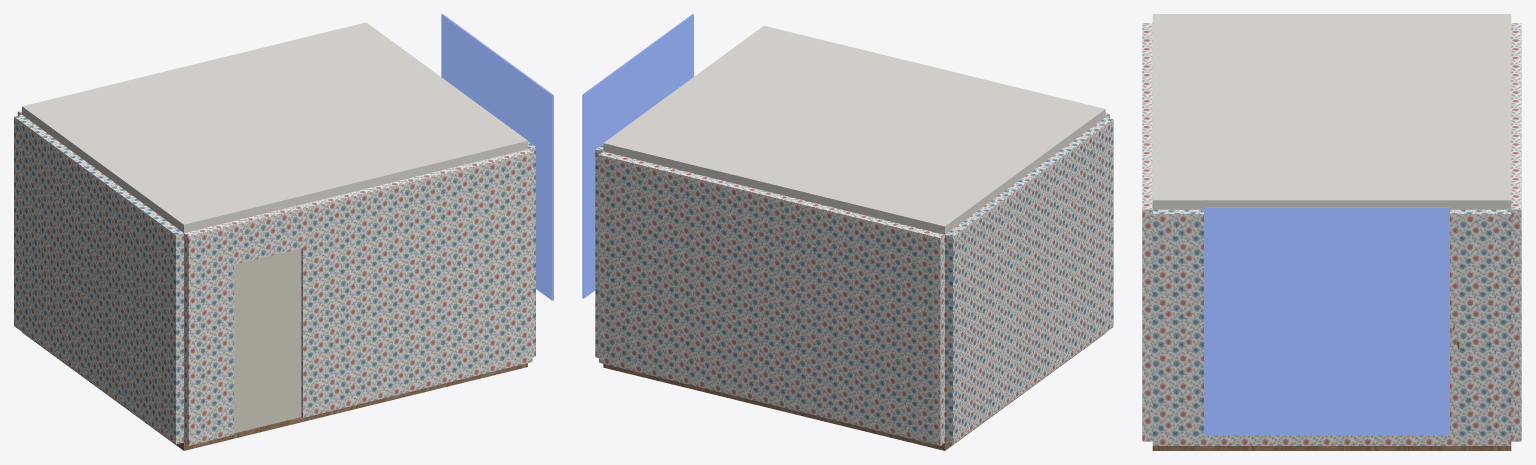
File: living-room.glb
3 renders of one model, left to right at view 1: azimuth 30°, elevation 25°; view 2: azimuth 150°, elevation 25°; view 3: azimuth 270°, elevation 25°, orthographic. The views are drawn at different scales.
Visible parts, largest first — view 1: RoomStatic; view 2: RoomStatic; view 3: RoomStatic.
Part boxes in pixels (x1,y1,x2,y2): RoomStatic: [14, 14, 553, 450]; RoomStatic: [582, 14, 1113, 450]; RoomStatic: [1142, 14, 1521, 450].
Size of the model in its own units: 5.01 by 2.9 by 3.7.
104 materials, 45 textured.
